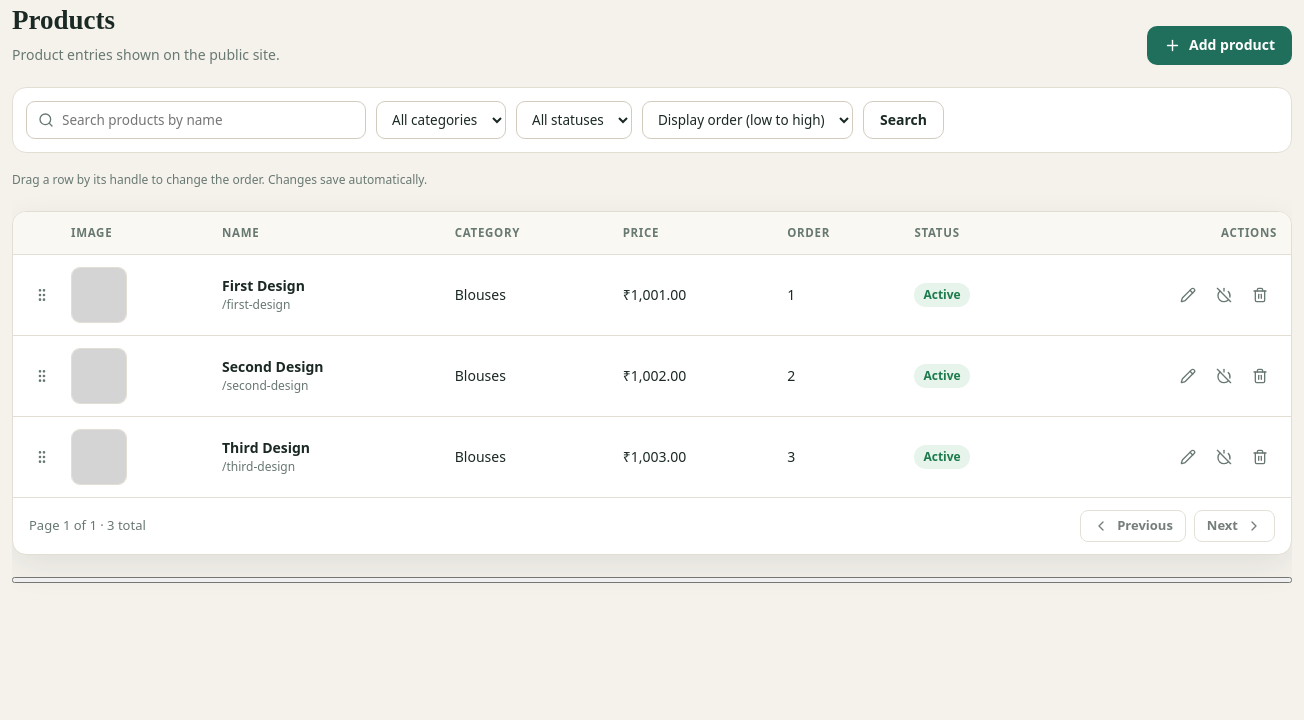
Test: catalogue drag and drop › disables sorting while a search is active
The width and height of the screenshot is (1304, 720).
Expected: the text "First Design" is shown, top-left (222, 276), bottom-right (305, 295)
Type "silk" into the search field labelled "Search products".
click(208, 120); type("silk")  # box top-left (62, 110), bottom-right (354, 130)
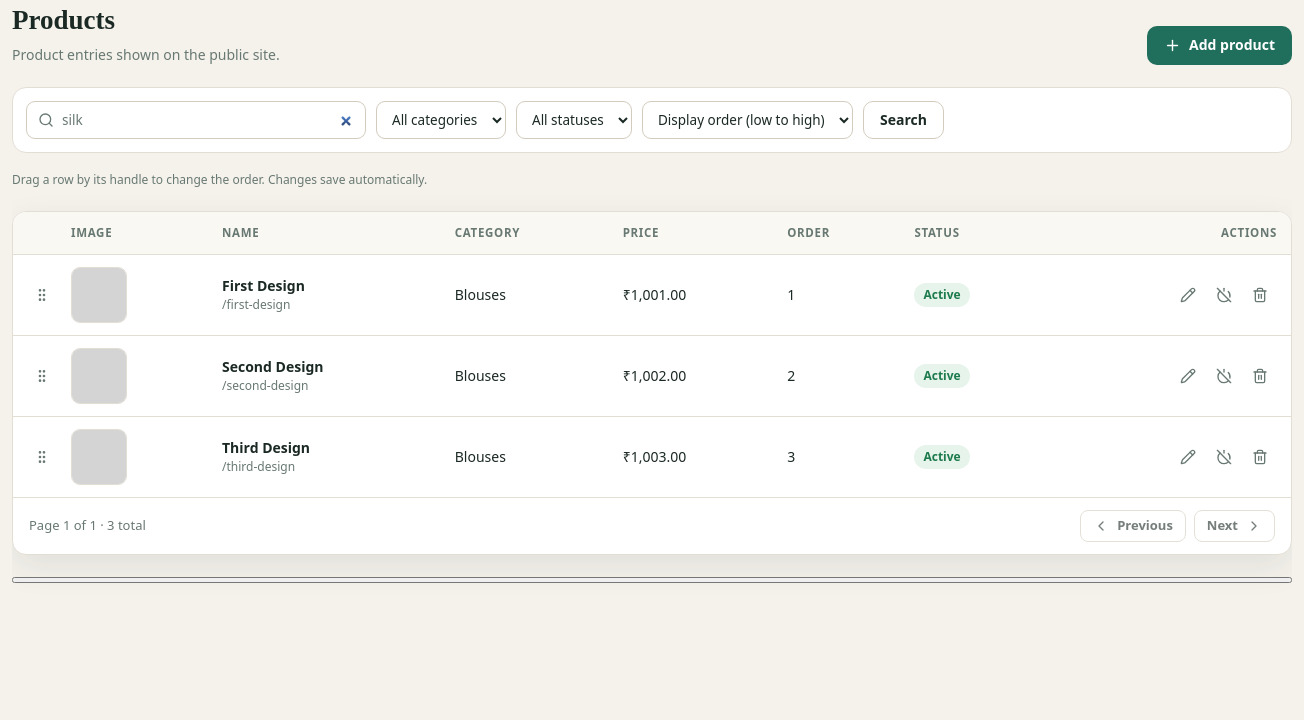
Click the button "Search".
click(903, 120)  # box top-left (863, 100), bottom-right (944, 139)
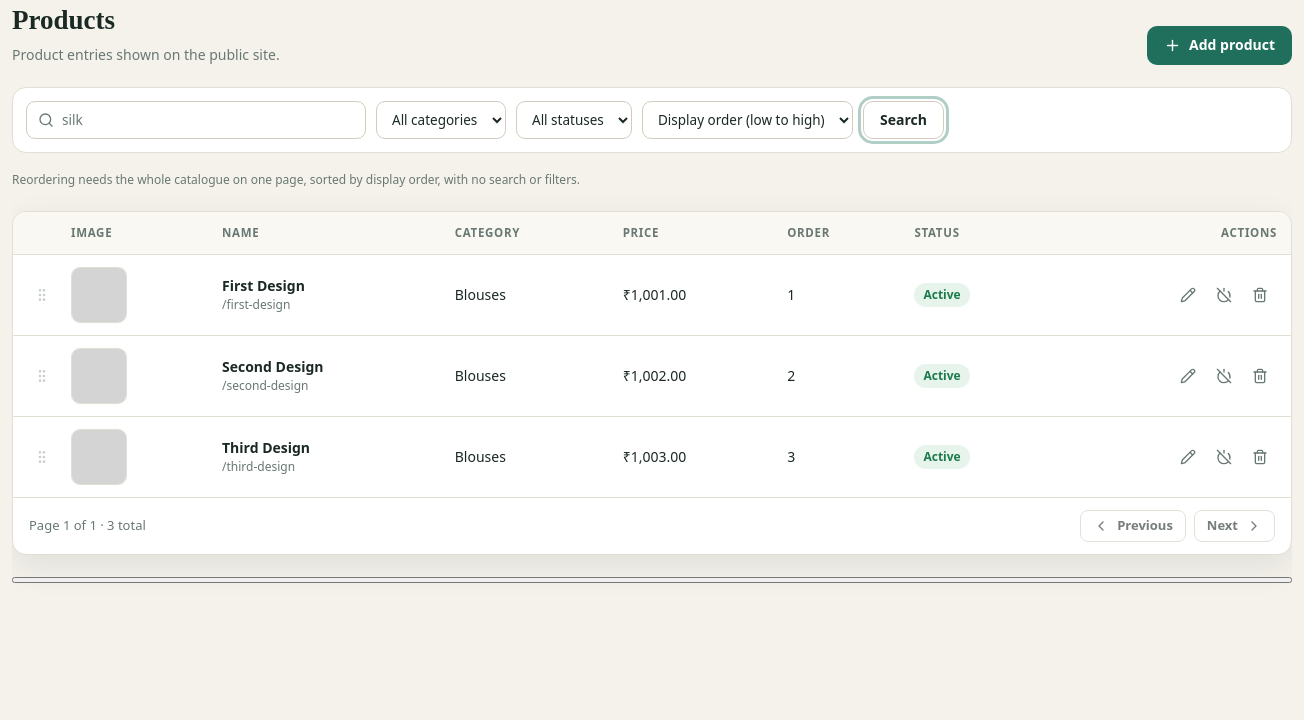
Expected: the text "Reordering needs the whole catalogue on one page" is shown, top-left (12, 171), bottom-right (580, 188)
